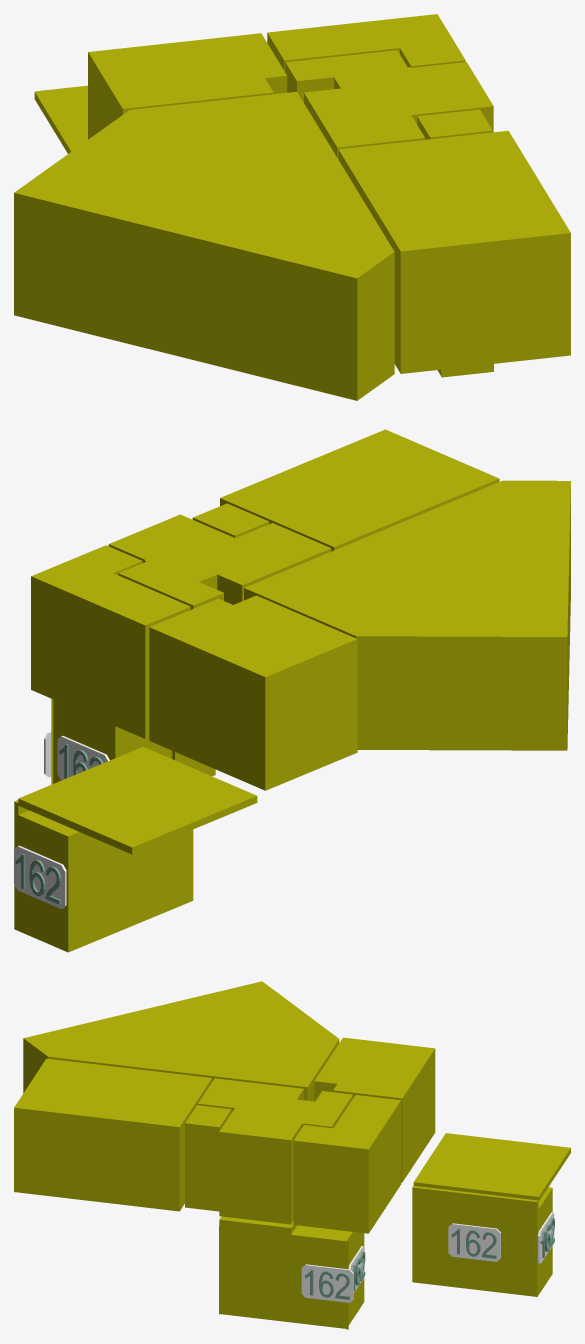
The picture shows the model from 3 angles, top to bottom: view 1: azimuth 30°, elevation 25°; view 2: azimuth 150°, elevation 25°; view 3: azimuth 270°, elevation 25°; orthographic projection. The views are drawn at different scales.
Visible parts, largest first — view 1: g_2, g_3, g_7, g_4, g_6, g_8, g_10, g_5; view 2: g_2, g_7, g_6, g_3, g_1, g_10, g_4, g_0, g_8, g_22, g_5, g_14; view 3: g_3, g_2, g_6, g_1, g_9, g_7, g_8, g_10, g_4, g_5, g_0, g_26 (+1 smaller).
Part boxes in pixels (box(x1,y1,x2,y2)): g_2: box(14, 91, 394, 400); g_3: box(338, 130, 570, 373); g_7: box(88, 33, 287, 139); g_4: box(285, 50, 435, 158); g_6: box(267, 14, 465, 71); g_8: box(412, 62, 493, 132); g_10: box(34, 85, 87, 153); g_5: box(417, 109, 492, 139); g_2: box(244, 480, 570, 750); g_7: box(149, 595, 357, 790); g_6: box(31, 545, 190, 738); g_3: box(220, 429, 499, 551); g_1: box(14, 800, 193, 952); g_10: box(18, 746, 257, 854); g_4: box(118, 523, 331, 609); g_0: box(51, 698, 172, 784); g_8: box(108, 514, 218, 562); g_22: box(14, 845, 66, 908); g_5: box(192, 503, 269, 537); g_14: box(57, 736, 109, 780); g_3: box(14, 1058, 211, 1211); g_2: box(23, 981, 339, 1101); g_6: box(293, 1095, 401, 1233); g_1: box(412, 1185, 552, 1296); g_9: box(219, 1216, 313, 1324); g_7: box(314, 1037, 435, 1182); g_8: box(219, 1115, 301, 1224); g_10: box(413, 1133, 570, 1201); g_4: box(198, 1078, 352, 1128); g_5: box(185, 1105, 231, 1211); g_0: box(307, 1227, 364, 1329); g_26: box(301, 1264, 353, 1302).
Size of the model in its own units: 10.27 by 5.2 by 14.37.
